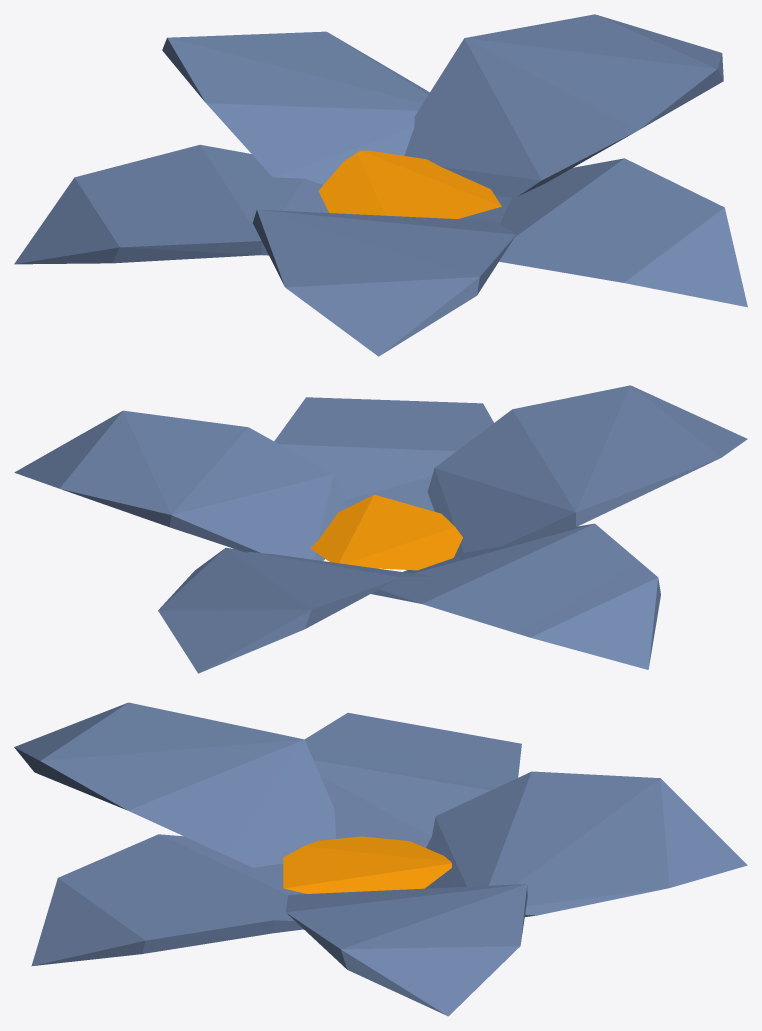
Rendered from Summer_Flower_02.glb.
The picture shows the model from 3 angles, top to bottom: view 1: azimuth 30°, elevation 25°; view 2: azimuth 150°, elevation 25°; view 3: azimuth 270°, elevation 25°; orthographic projection. The views are drawn at different scales.
Parts seen in each view (by area): view 1: Summer_Flower_02_LOD0; view 2: Summer_Flower_02_LOD0; view 3: Summer_Flower_02_LOD0.
Part boxes in pixels (x1,y1,x2,y2): Summer_Flower_02_LOD0: [14, 14, 747, 356]; Summer_Flower_02_LOD0: [14, 385, 747, 673]; Summer_Flower_02_LOD0: [14, 702, 747, 1016].
Size of what is drawn, in the model's own units: 0.292 by 0.044 by 0.2825.
1 material, 1 textured.
